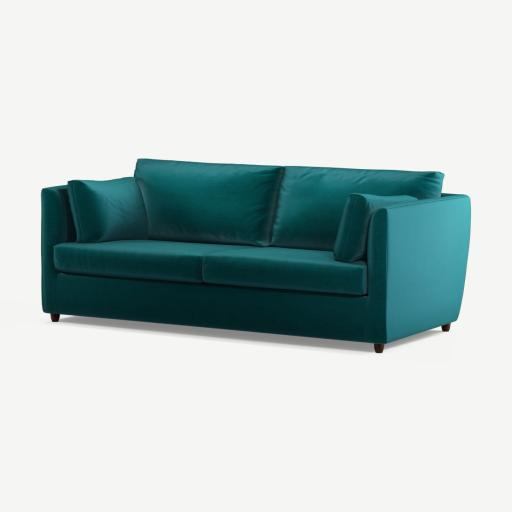back_cushion: (135, 159, 442, 252)
base: (58, 273, 381, 343)
left_arm: (364, 195, 470, 343)
legs: (374, 343, 384, 353), (51, 314, 59, 322), (443, 323, 449, 331)
right_arm: (42, 186, 75, 313)
seat_cushion: (53, 240, 366, 295)
two-seater: (0, 0, 511, 512)
